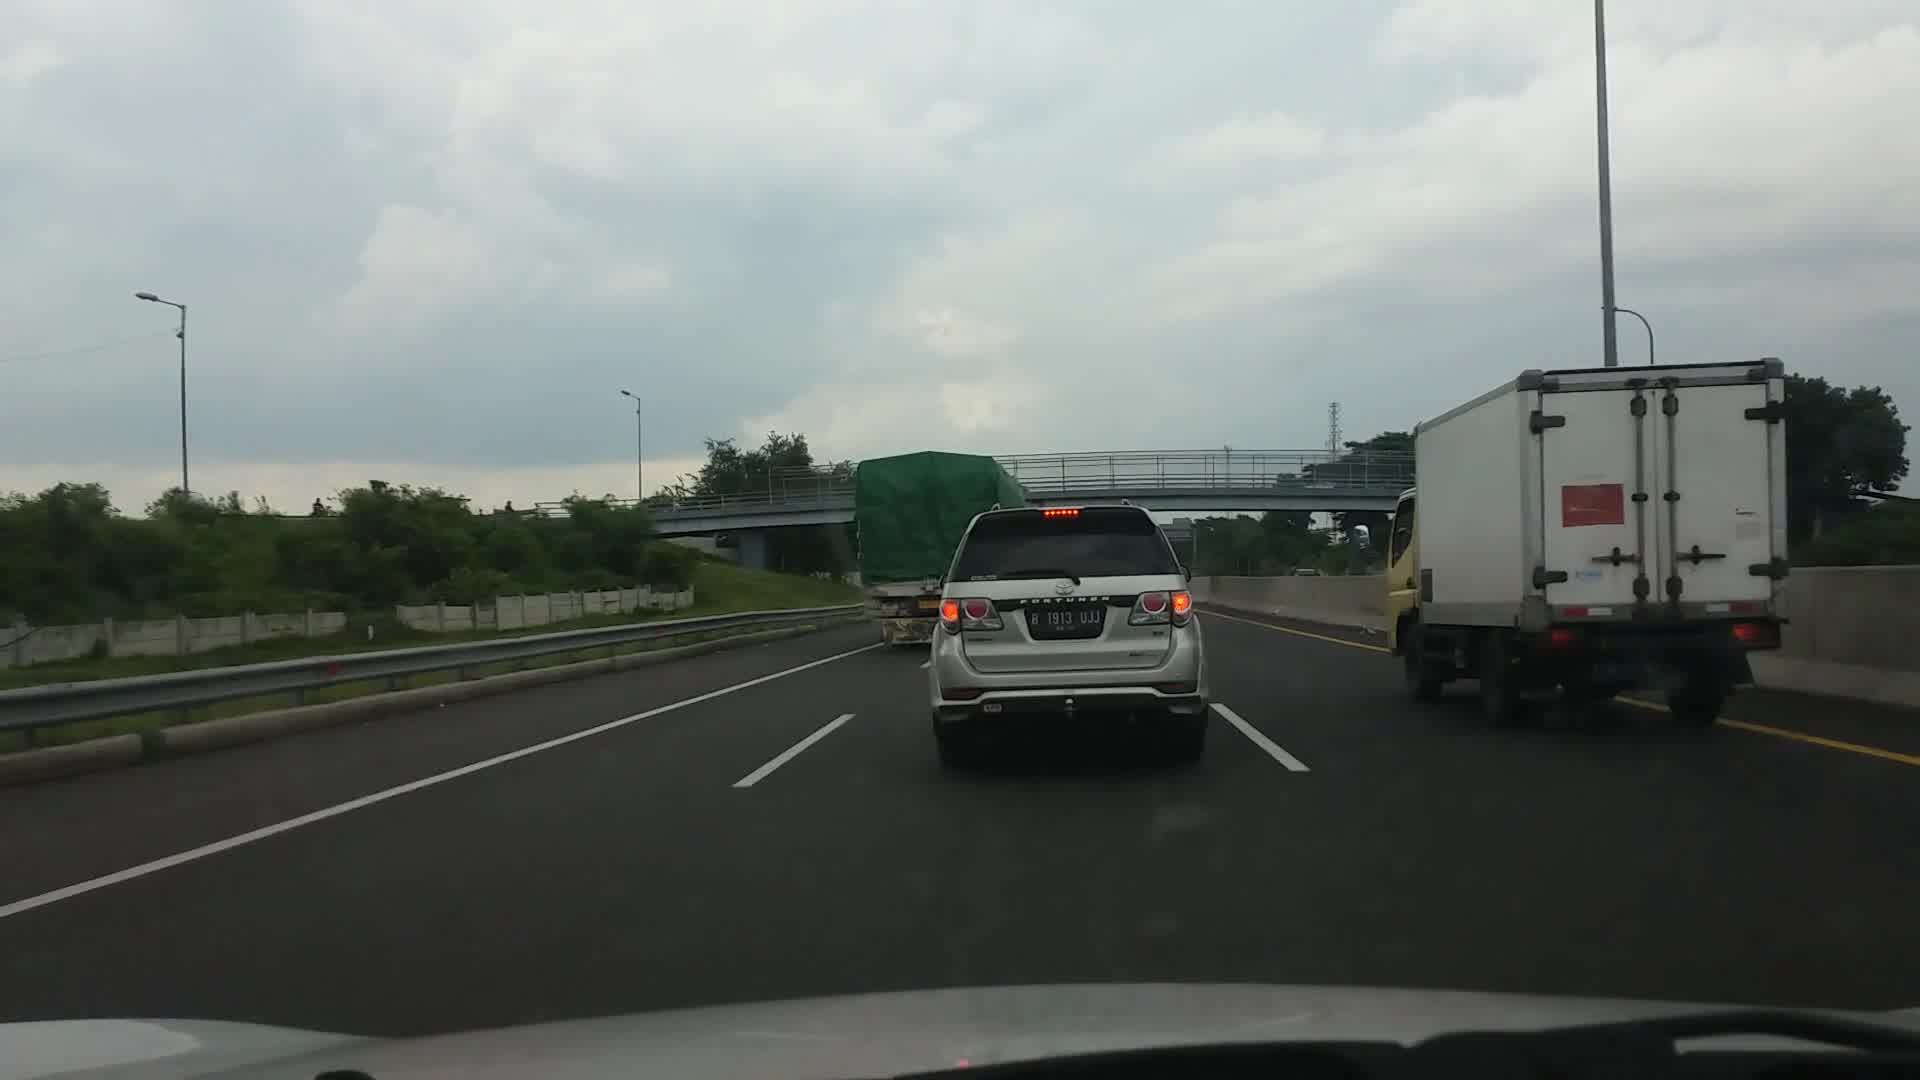plate_positive: (1029, 609, 1102, 633)
